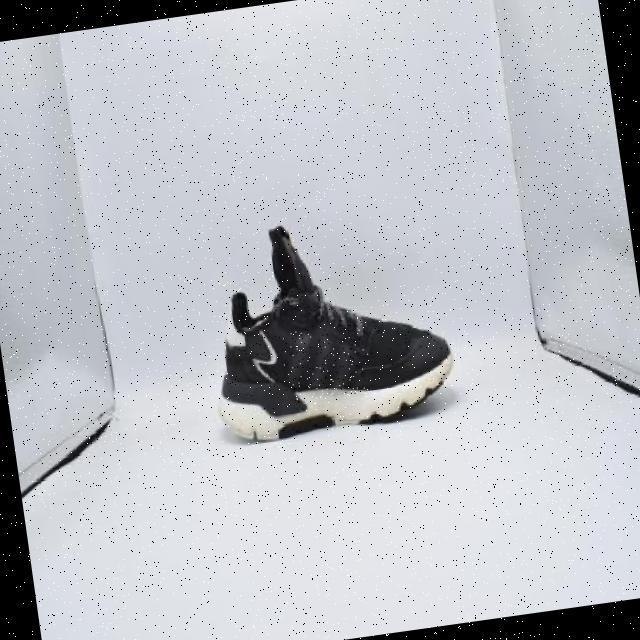Adidas: (279, 320, 374, 404)
